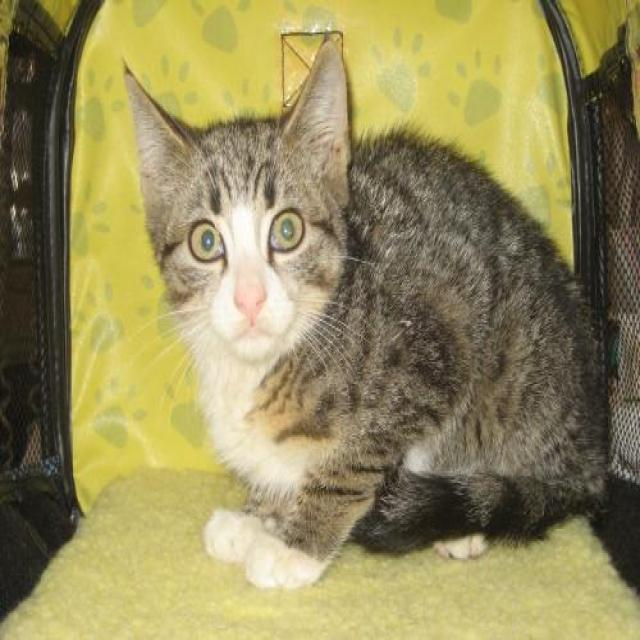Cats: (120, 34, 610, 591)
